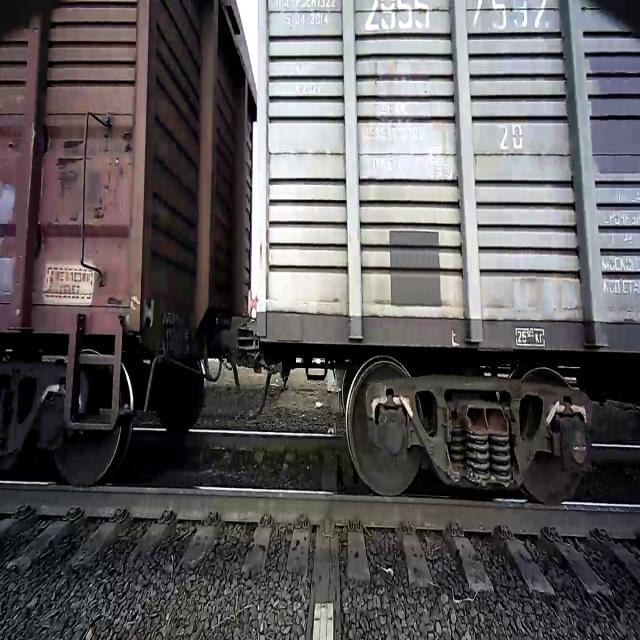boxcar: (252, 0, 640, 513), (0, 0, 266, 513)
